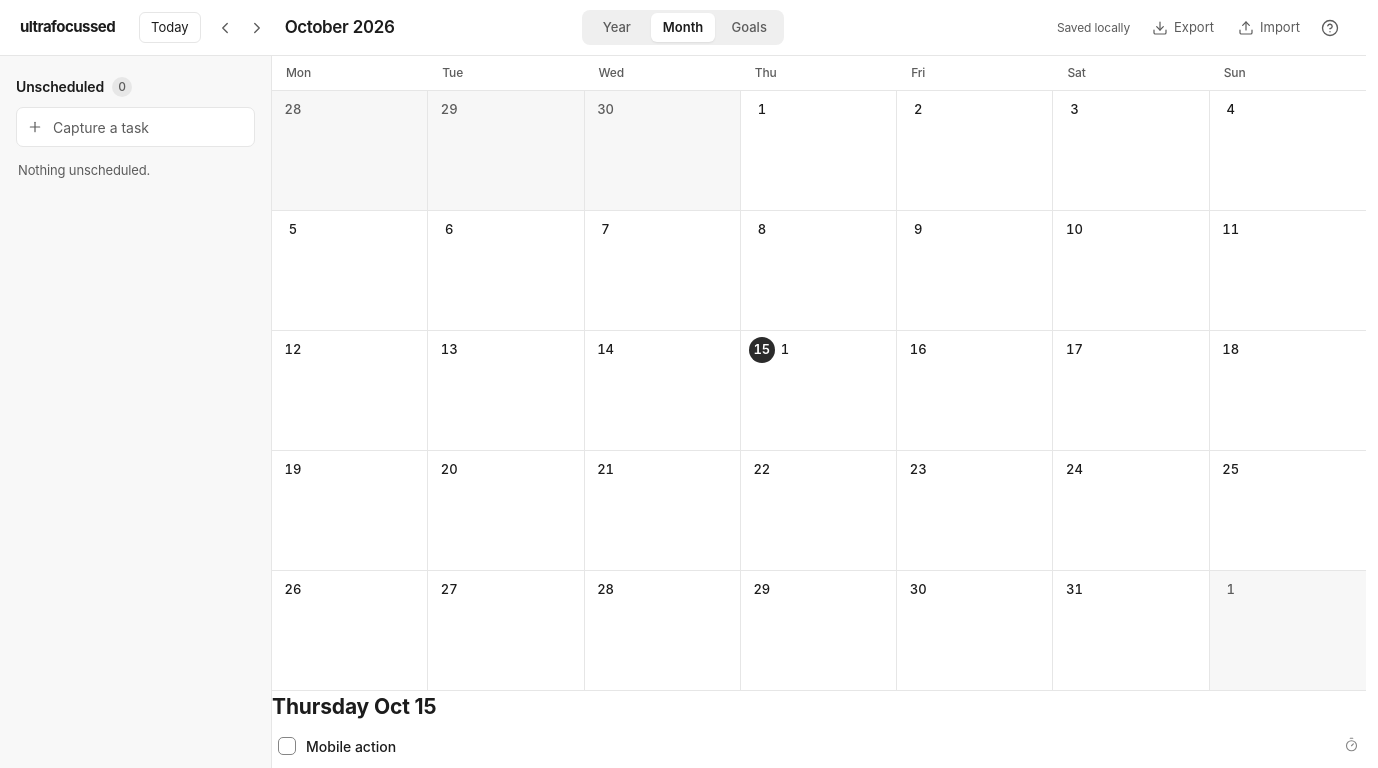
Test: year, month, and goal planning › shows the selected day once on mobile and keeps date selection working
Expected: the number of buttons "Mobile action" is 1, [306,736,1328,756]
Click the button "16": (975, 350) [903,335,1046,365]
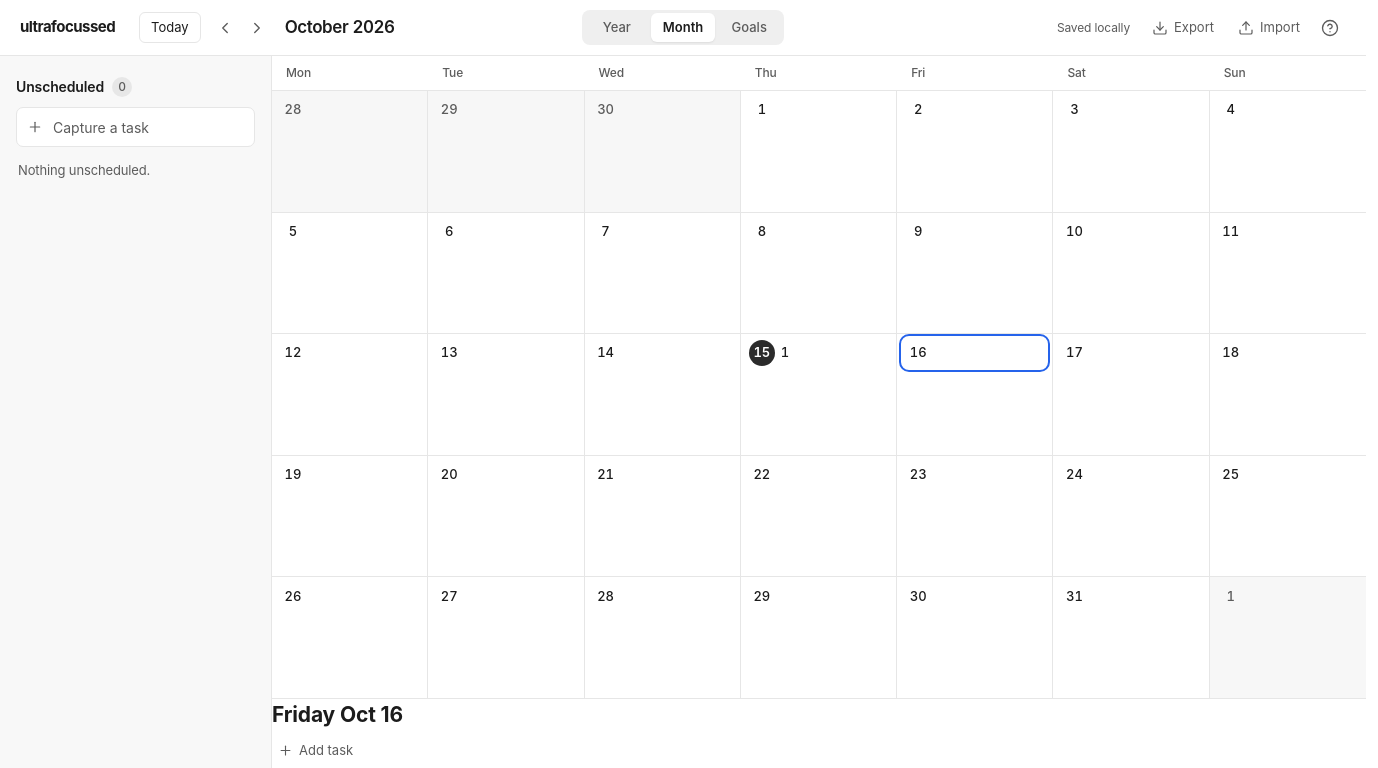
Result: the button "Mobile action" is gone
